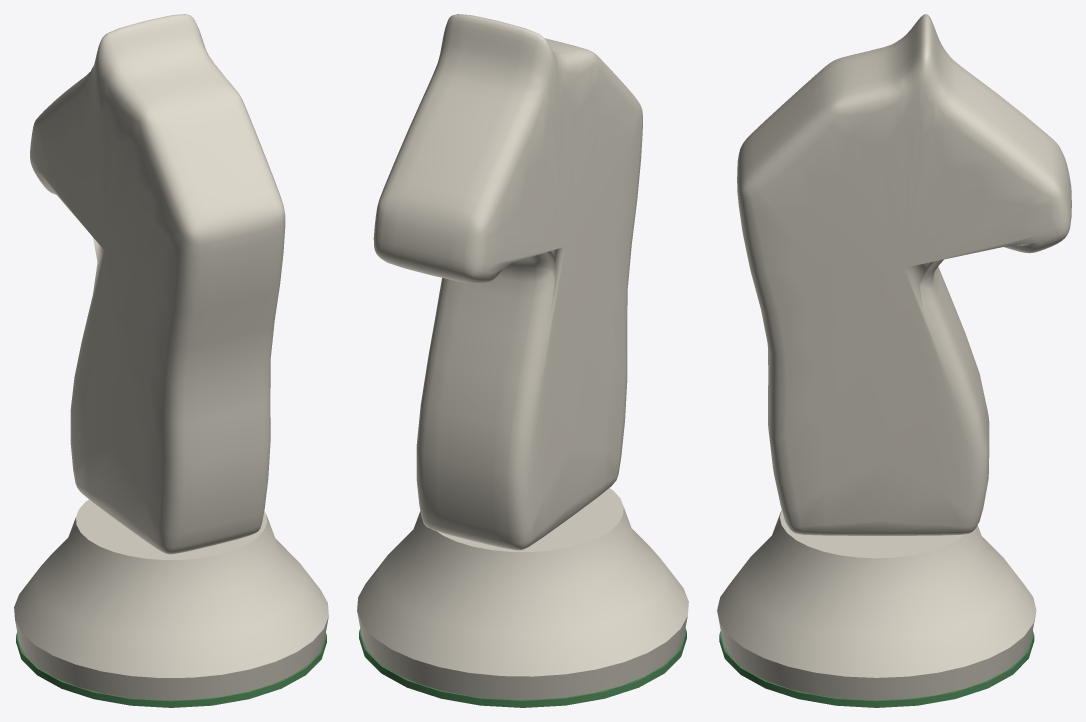
Rendered from chess_knight_w.glb.
3 views of the same model, side by side, from view 1: azimuth 30°, elevation 25°; view 2: azimuth 150°, elevation 25°; view 3: azimuth 270°, elevation 25° (orthographic). The views are drawn at different scales.
Visible parts, largest first — view 1: Ivory, Felt; view 2: Ivory, Felt; view 3: Ivory, Felt.
Part boxes in pixels (<box>): Ivory: <box>14,14,328,700</box>; Felt: <box>16,632,326,707</box>; Ivory: <box>357,14,688,699</box>; Felt: <box>359,628,686,707</box>; Ivory: <box>717,14,1071,700</box>; Felt: <box>719,630,1034,707</box>.
Bounding box in the file's own units: 0.0342 × 0.0722 × 0.038.
